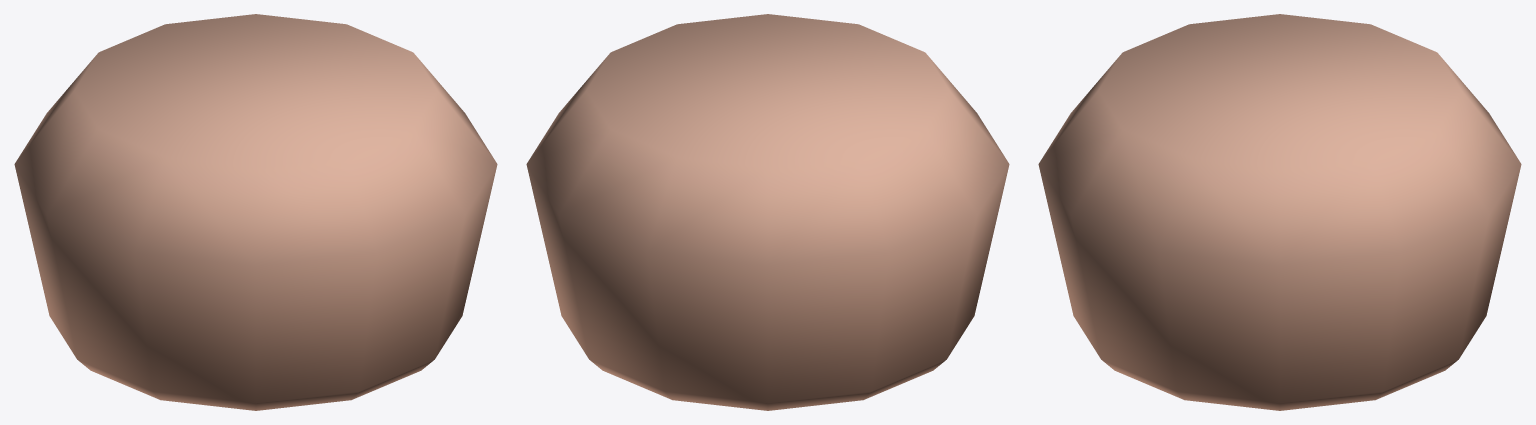
File: PotionBottleCork3.fbx
The picture shows the model from 3 angles, left to right: view 1: azimuth 30°, elevation 25°; view 2: azimuth 150°, elevation 25°; view 3: azimuth 270°, elevation 25°; orthographic projection.
Parts seen in each view (by area): view 1: PotionBottleCork3; view 2: PotionBottleCork3; view 3: PotionBottleCork3.
Part boxes in pixels (bbox=[...]): PotionBottleCork3: bbox=[14, 14, 497, 410]; PotionBottleCork3: bbox=[526, 14, 1009, 410]; PotionBottleCork3: bbox=[1038, 14, 1521, 410].
Bounding box in the file's own units: 3.58 × 1.96 × 3.58.
